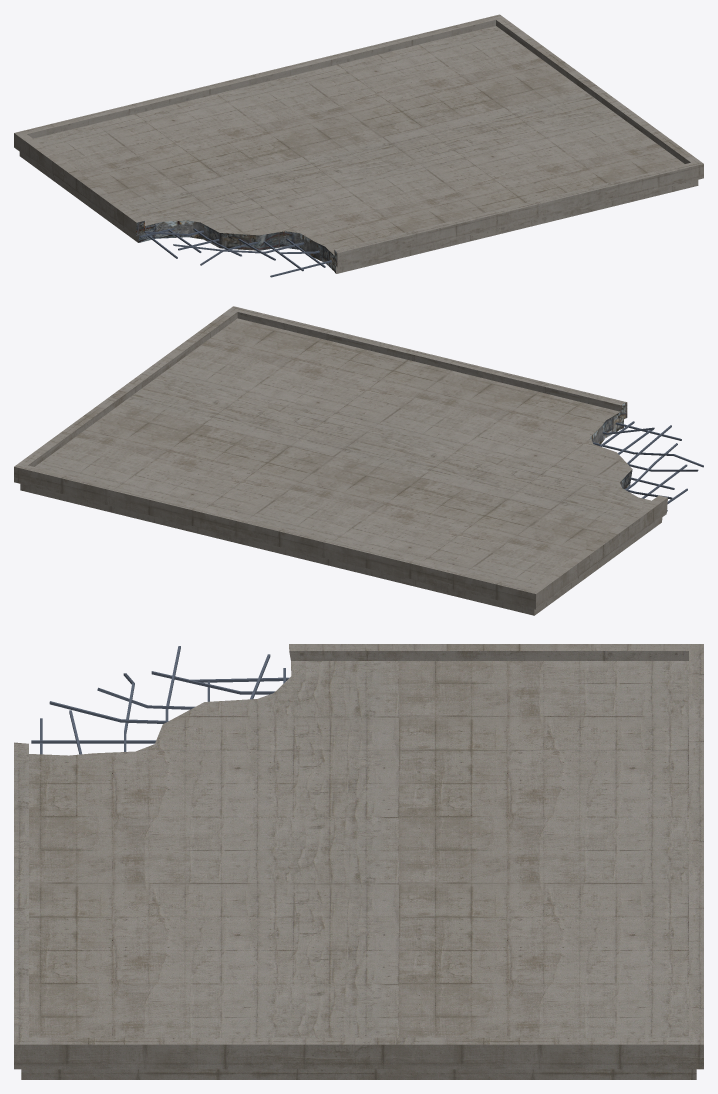
Rendered from Ruin2F_LOD0.fbx.
3 renders of one model, top to bottom at view 1: azimuth 30°, elevation 25°; view 2: azimuth 150°, elevation 25°; view 3: azimuth 270°, elevation 25°, orthographic. The views are drawn at different scales.
Visible parts, largest first — view 1: polySurface481; view 2: polySurface481; view 3: polySurface481.
Part boxes in pixels (left/top/right/bottom): polySurface481: left=14, top=14, right=703, bottom=277; polySurface481: left=14, top=306, right=703, bottom=615; polySurface481: left=14, top=644, right=703, bottom=1079.
Bounding box in the file's own units: 14.61 × 0.6795 × 10.63.
